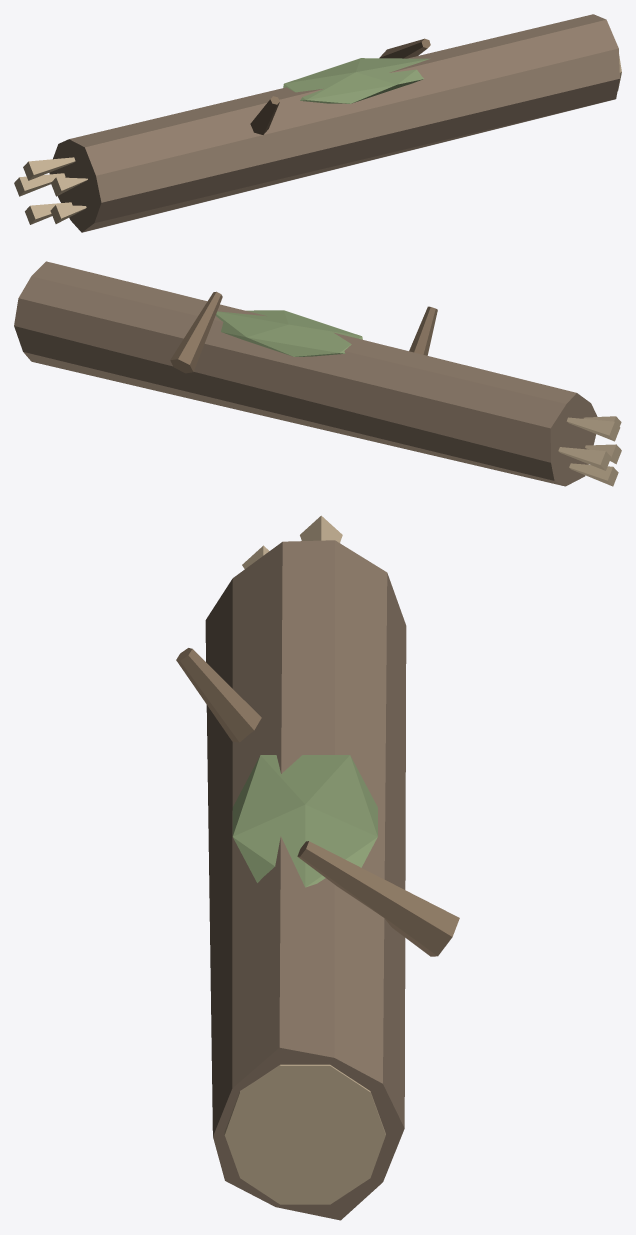
Rendered from Log2.glb.
The picture shows the model from 3 angles, top to bottom: view 1: azimuth 30°, elevation 25°; view 2: azimuth 150°, elevation 25°; view 3: azimuth 270°, elevation 25°; orthographic projection. The views are drawn at different scales.
Parts seen in each view (by area): view 1: Log2; view 2: Log2; view 3: Log2.
Boxes of the visible parts, x1,y1,x2,y2 form: Log2: (14,14,621,232); Log2: (14,261,621,486); Log2: (176,515,459,1220).
Bounding box in the file's own units: 15.26 × 2.89 × 3.29.
